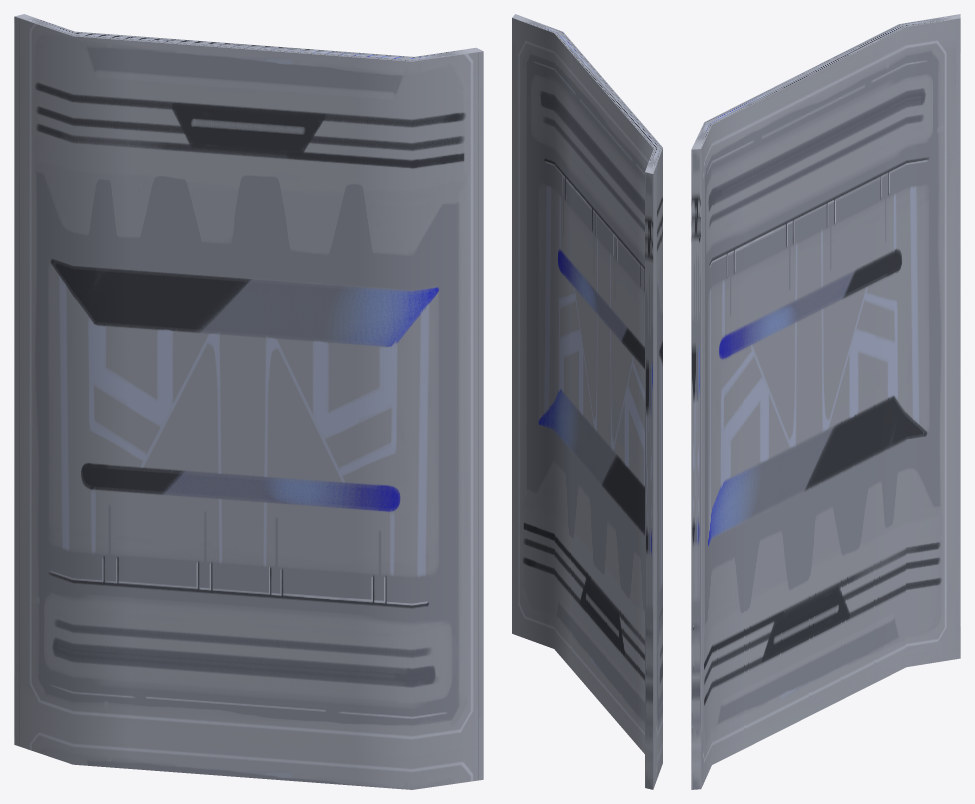
The model's file is curvedWall_1.fbx.
3 renders of one model, left to right at view 1: azimuth 30°, elevation 25°; view 2: azimuth 150°, elevation 25°; view 3: azimuth 270°, elevation 25°, orthographic. The views are drawn at different scales.
Visible parts, largest first — view 1: curvedWall_1; view 2: curvedWall_1; view 3: curvedWall_1.
Boxes of the visible parts, <box> form: curvedWall_1: <box>14,14,483,789</box>; curvedWall_1: <box>512,14,662,789</box>; curvedWall_1: <box>691,14,960,789</box>.
Bounding box in the file's own units: 159 × 350 × 133.
Materials: 1 (1 with a texture image).
